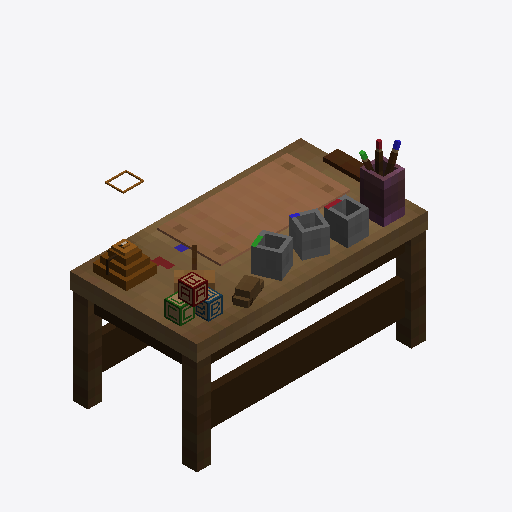
A Minecraft block model of 75 cuboids, rendered isometrically (azimuth 45°, elevation 35.3°) with the resource pack's own textures.
Visible parts, largest first — tabletop, element 11, element 59, element 5, element 4, drawer, element 6, element 58, element 61, element 13, element 71, element 69 (+6 smaller).
Boxes of the visible parts, x1=… form: tabletop: x1=70, y1=138, x2=427, y2=362; element 11: x1=157, y1=153, x2=349, y2=265; element 59: x1=211, y1=276, x2=404, y2=428; element 5: x1=182, y1=355, x2=210, y2=471; element 4: x1=73, y1=292, x2=101, y2=408; drawer: x1=94, y1=243, x2=404, y2=363; element 6: x1=396, y1=231, x2=425, y2=348; element 58: x1=102, y1=323, x2=148, y2=371; element 61: x1=380, y1=167, x2=404, y2=217; element 13: x1=93, y1=259, x2=156, y2=290; element 71: x1=178, y1=272, x2=207, y2=306; element 69: x1=164, y1=291, x2=194, y2=325.
Size of the model in its own units: 30.6 by 23.9 by 15.84.